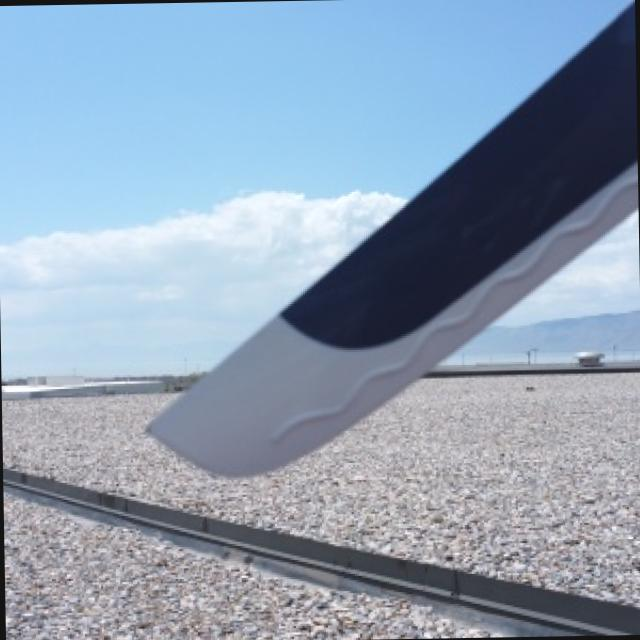healthy: (151, 1, 636, 473)
